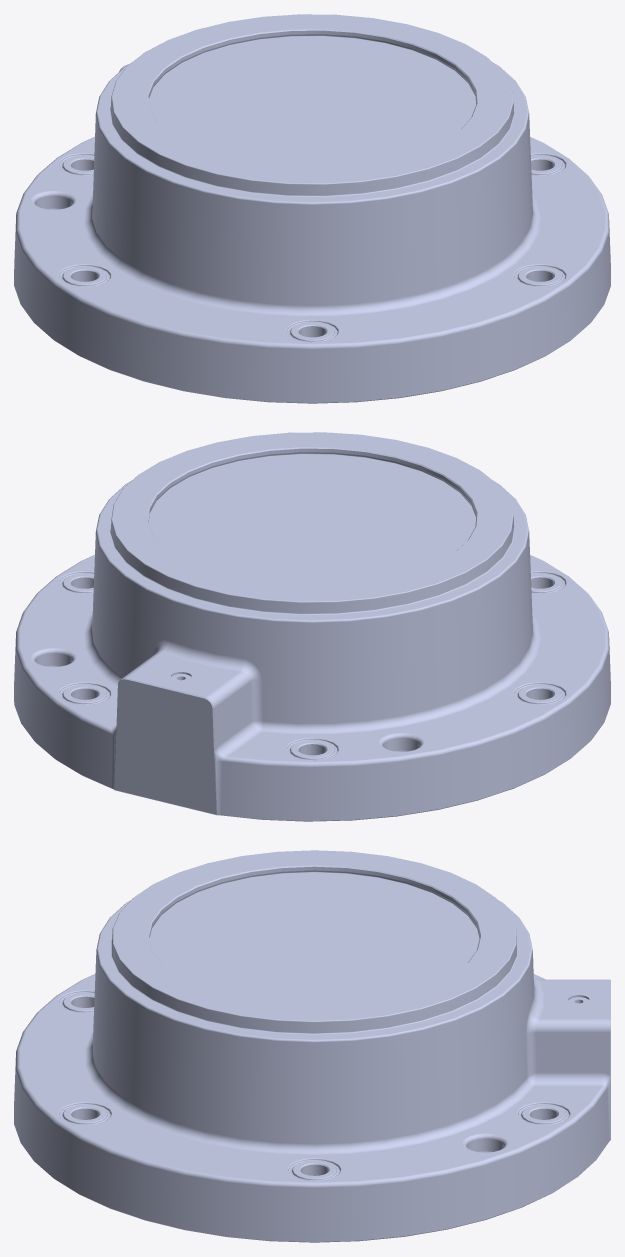
The picture shows the model from 3 angles, top to bottom: view 1: azimuth 30°, elevation 25°; view 2: azimuth 150°, elevation 25°; view 3: azimuth 270°, elevation 25°; orthographic projection.
Visible parts, largest first — view 1: FBXASC195FBXASC141FBXASC194FBXASC185FBXASC195FBXASC140FBXASC; view 2: FBXASC195FBXASC141FBXASC194FBXASC185FBXASC195FBXASC140FBXASC; view 3: FBXASC195FBXASC141FBXASC194FBXASC185FBXASC195FBXASC140FBXASC.
Part boxes in pixels (x1,y1,x2,y2): FBXASC195FBXASC141FBXASC194FBXASC185FBXASC195FBXASC140FBXASC: (14, 14, 610, 403); FBXASC195FBXASC141FBXASC194FBXASC185FBXASC195FBXASC140FBXASC: (14, 432, 610, 821); FBXASC195FBXASC141FBXASC194FBXASC185FBXASC195FBXASC140FBXASC: (14, 850, 610, 1242).
Size of the model in its own units: 0.2824 by 0.2796 by 0.093.
